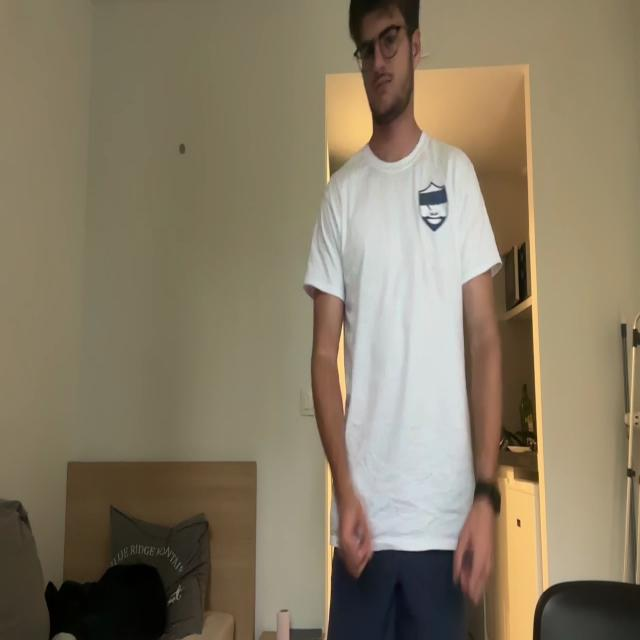elbow: (469, 326, 504, 370), (311, 340, 342, 388)
hand: (453, 493, 494, 602), (337, 490, 373, 578)
shoulder: (452, 142, 484, 226), (314, 177, 348, 254)
